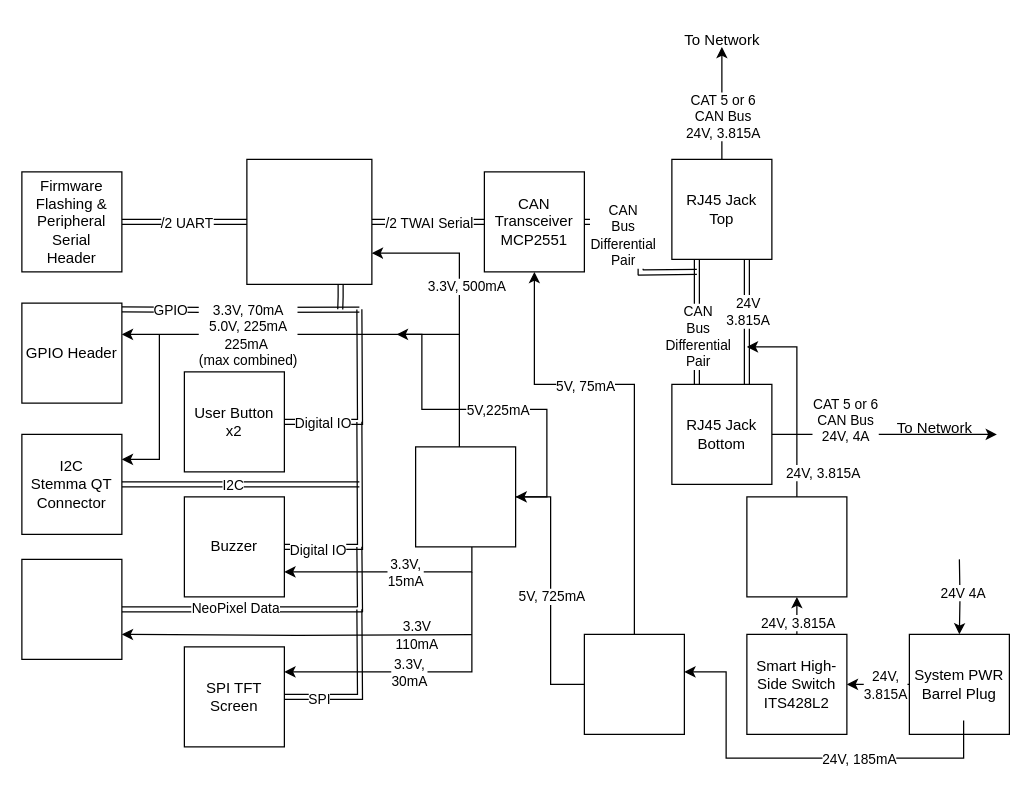
This 1031x790 diagram has some shape labels left out. Here are the shapes that lost their labels. From the top down, the centre of each, then its label:
At (309,221): "Microcontroller ESP32 S3 wroom-02".
At (465,496): "5V - 3.3V Linear Regulator Az1117IH-3.3".
At (796,546): "CAN Bus Current Sensing 3.3 V".
At (71,608): "ALERT NeoPixel x2".
At (633,683): "24V - 5V Switching Regulator TR10S05".
